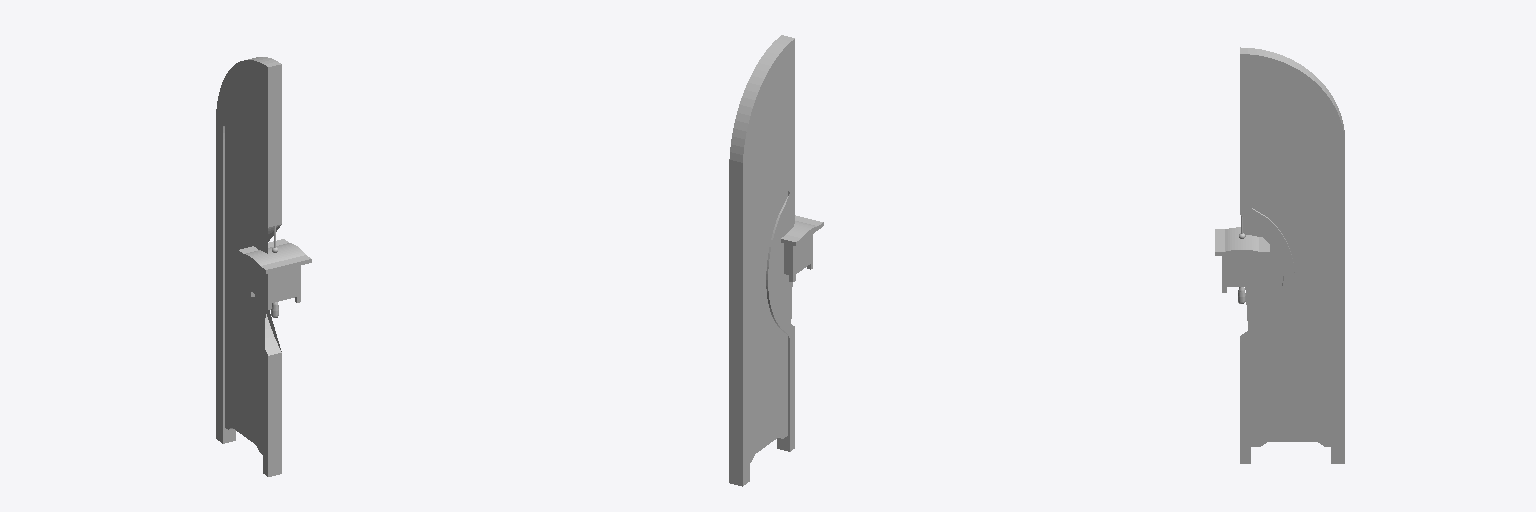
File: Left.obj
The picture shows the model from 3 angles: view 1: azimuth 30°, elevation 25°; view 2: azimuth 150°, elevation 25°; view 3: azimuth 270°, elevation 25°; orthographic projection.
Parts seen in each view (by area): view 1: Biombo_Cube.002; view 2: Biombo_Cube.002; view 3: Biombo_Cube.002.
Part boxes in pixels (x1,y1,x2,y2): Biombo_Cube.002: (216,57,311,476); Biombo_Cube.002: (729,35,823,486); Biombo_Cube.002: (1215,47,1344,463).
Size of the model in its own units: 0.3496 by 2.99 by 0.8633.